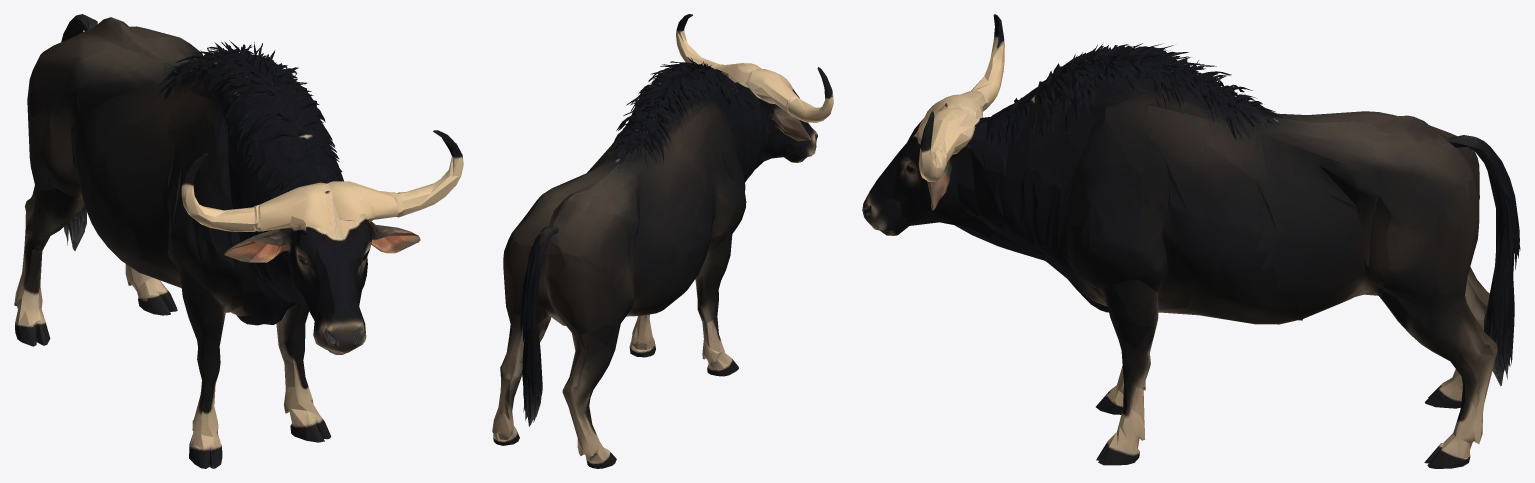
The model's file is fauna_buffalo.glb.
3 views of the same model, side by side, from view 1: azimuth 30°, elevation 25°; view 2: azimuth 150°, elevation 25°; view 3: azimuth 270°, elevation 25° (orthographic). The views are drawn at different scales.
Size of the model in its own units: 0.804 by 1.24 by 1.9.
Materials: 1 (1 with a texture image).
